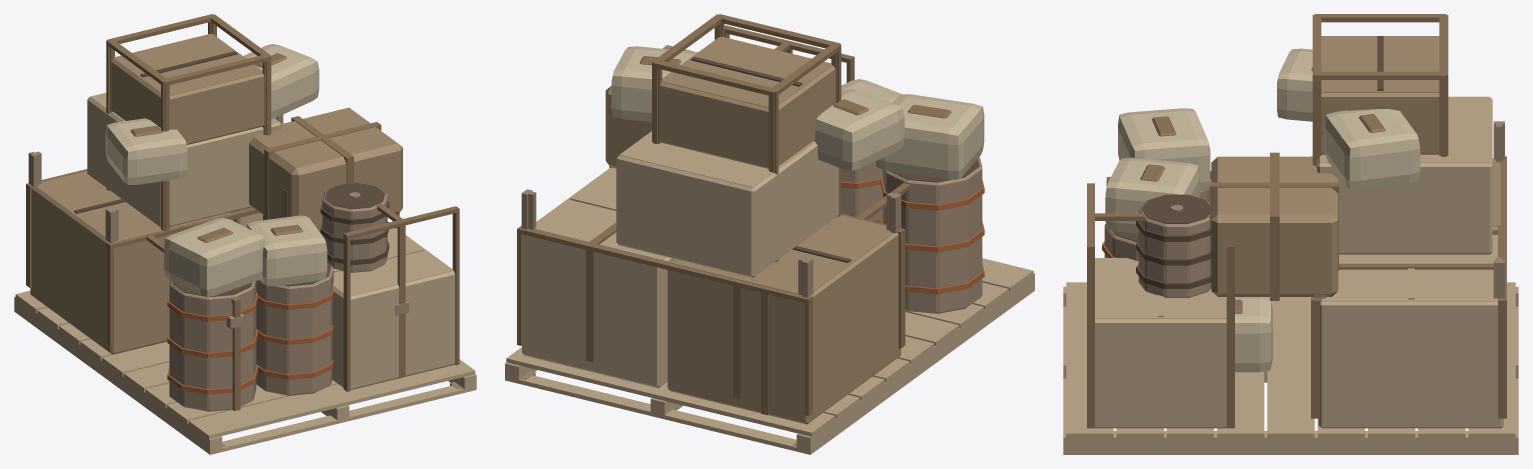
File: cargo_stack_large_sand.glb
3 renders of one model, left to right at view 1: azimuth 30°, elevation 25°; view 2: azimuth 150°, elevation 25°; view 3: azimuth 270°, elevation 25°, orthographic. The views are drawn at different scales.
Parts seen in each view (by area): view 1: StackLarge_Body; view 2: StackLarge_Body; view 3: StackLarge_Body.
Part boxes in pixels (x1=…): StackLarge_Body: x1=14, y1=14, x2=476, y2=454; StackLarge_Body: x1=505, y1=14, x2=1034, y2=454; StackLarge_Body: x1=1063, y1=14, x2=1518, y2=454.
Size of the model in its own units: 2.2 by 2.2 by 2.8.
